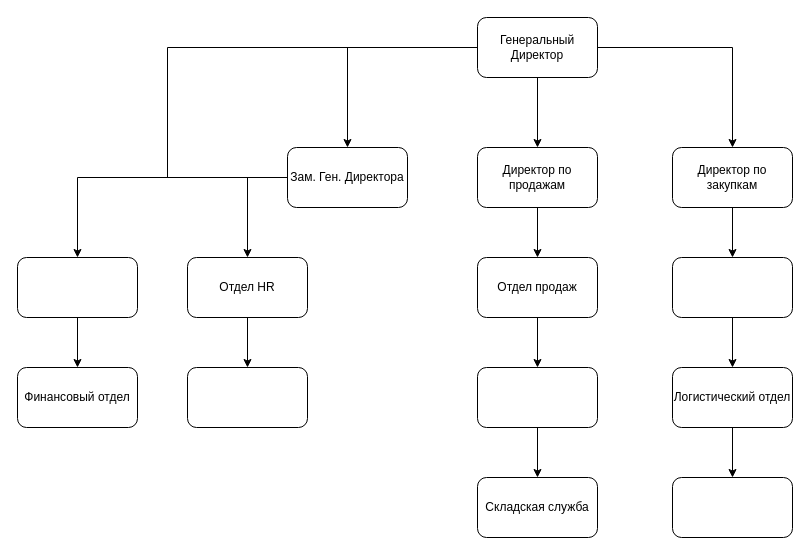
The diagram is 810 pixels wide and 555 high, and some of its shapes have lost their labels. The centre of each missing label's shape, as x and y in pixels:
Бухгалтерия: [77,287]
ИТ-специалист / Администратор ИС: [247,397]
Менеджеры по регионам: [537,397]
Отдел закупок: [732,287]
Поставщики / Логистика: [732,507]
